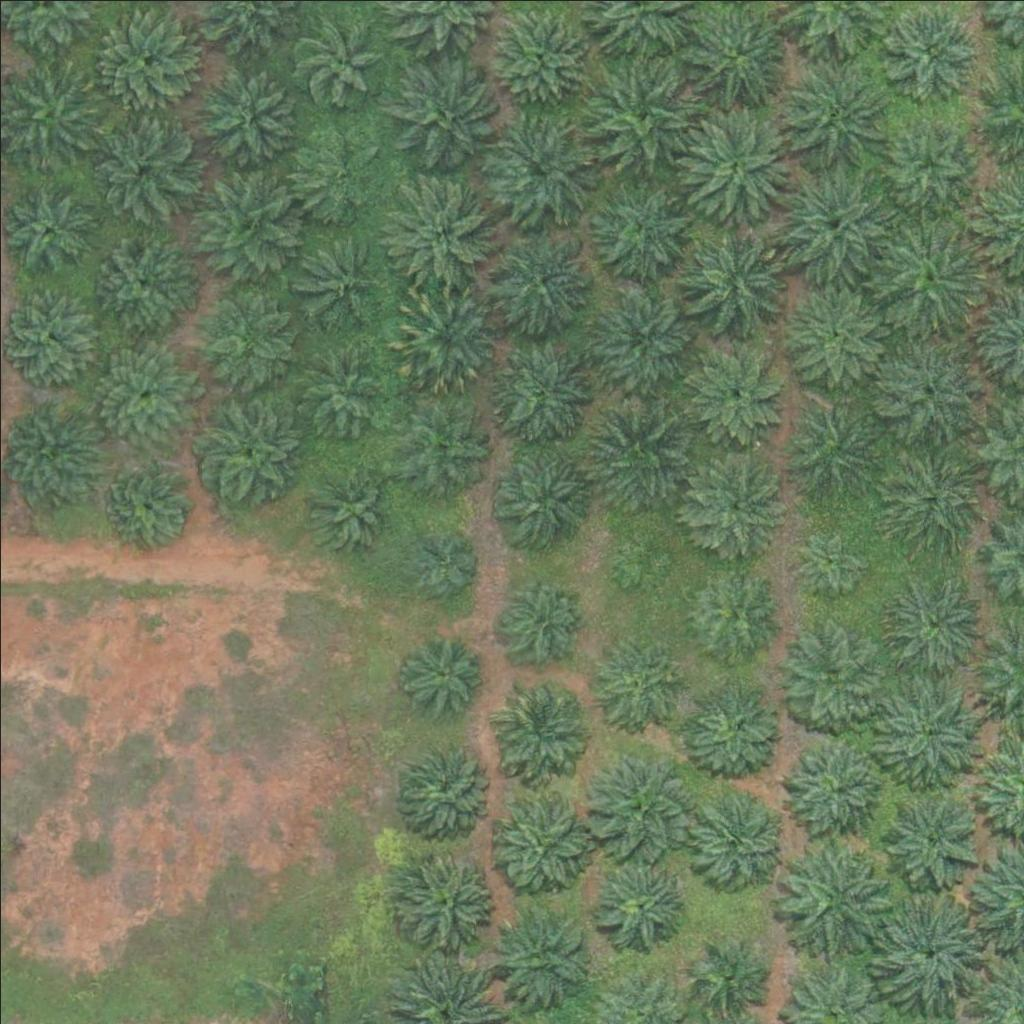Kelapa_Sawit: (484, 788, 597, 902), (586, 749, 699, 863), (775, 59, 888, 173), (86, 335, 199, 449), (82, 223, 195, 337), (388, 280, 501, 393), (485, 439, 598, 552), (869, 671, 982, 784), (871, 227, 984, 340), (774, 167, 887, 280), (680, 106, 793, 219), (384, 176, 497, 289), (389, 59, 502, 172), (875, 903, 987, 1016), (777, 838, 889, 951), (482, 895, 594, 1008), (485, 331, 597, 444), (584, 402, 696, 515), (586, 280, 698, 393), (874, 330, 986, 443), (678, 226, 790, 339), (588, 173, 700, 286), (589, 57, 701, 170), (486, 110, 598, 223), (185, 166, 297, 279), (187, 58, 299, 171), (83, 109, 195, 222), (881, 786, 981, 887), (395, 851, 495, 952), (393, 395, 493, 496), (582, 632, 682, 733), (684, 683, 784, 784), (680, 564, 780, 665), (688, 456, 788, 557), (688, 345, 788, 446), (784, 738, 884, 839), (783, 626, 883, 727), (781, 400, 881, 501), (783, 284, 883, 385), (883, 577, 983, 678), (886, 444, 986, 545), (492, 230, 592, 331), (489, 7, 589, 108), (93, 10, 193, 111), (691, 788, 791, 888), (592, 853, 692, 953), (393, 738, 493, 838), (492, 678, 592, 778), (200, 397, 300, 497), (187, 287, 287, 387), (400, 626, 488, 714), (305, 464, 393, 552), (885, 115, 973, 203), (294, 234, 382, 322), (290, 344, 377, 432), (499, 574, 586, 662), (291, 130, 378, 218), (296, 16, 383, 104), (105, 461, 192, 549), (693, 943, 768, 1019), (795, 520, 870, 595), (412, 531, 475, 594), (611, 528, 673, 591)
